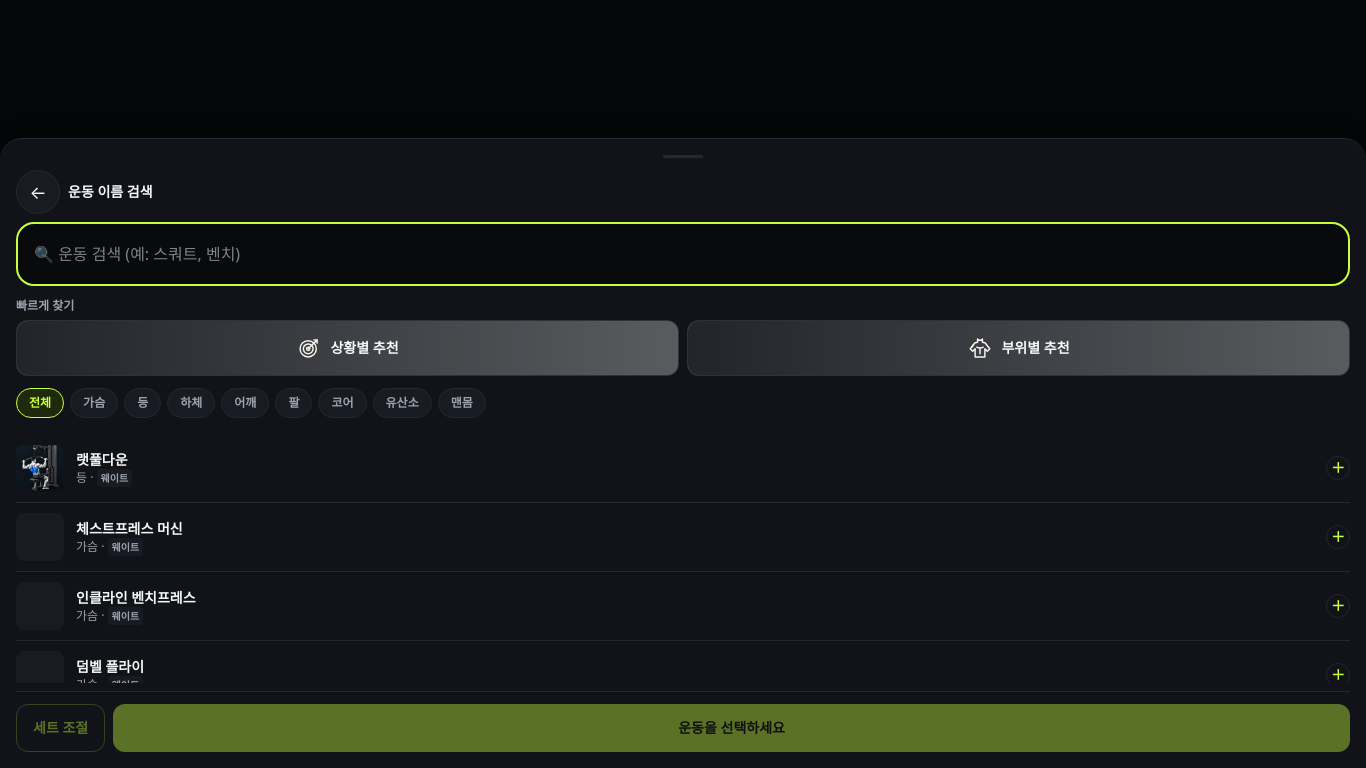
Test: 2단계 (2026-10-05) › 검색어를 치면 빠르게 찾기가 접히고, 지우면 다시 나온다
Check: the text "빠르게 찾기" is shown, box [16,296,74,314]
In the field with placeholder "🔍 운동 검색 (예: 스쿼트, 벤치)": point(683, 254) [16,222,1350,286], type "레그"
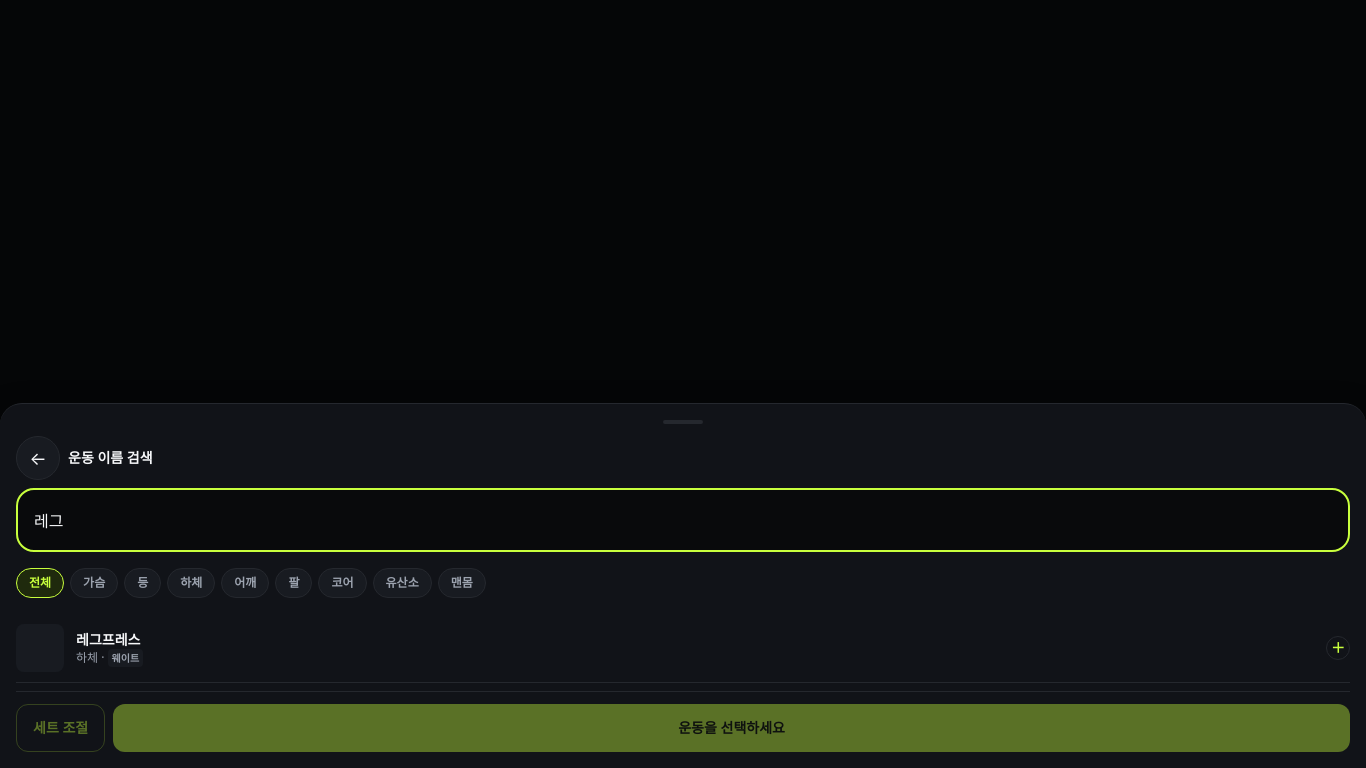
Check: the text "빠르게 찾기" is gone
Check: the button "상황별 추천" is gone
Clear the field with placeholder "🔍 운동 검색 (예: 스쿼트, 벤치)": point(683, 520) [16,488,1350,552]
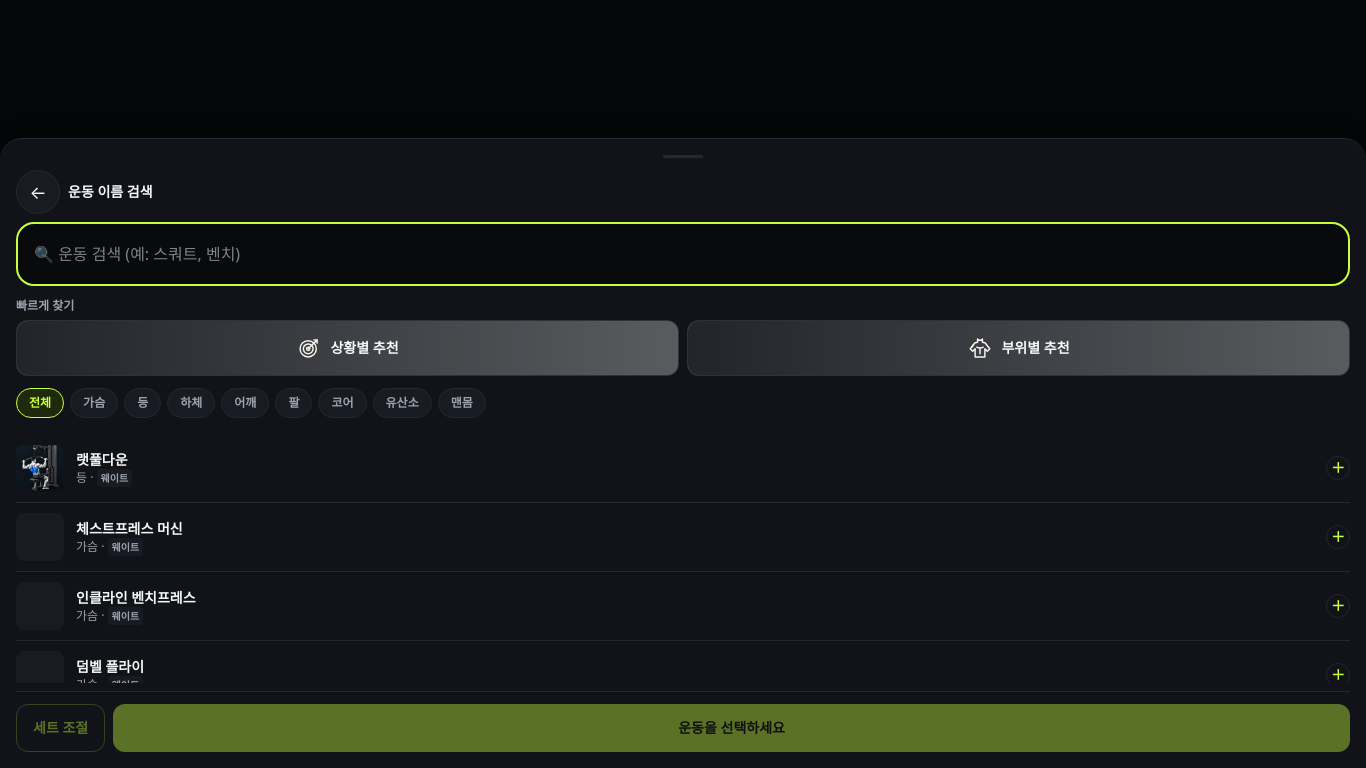
Check: the text "빠르게 찾기" is shown, box [16,296,74,314]
